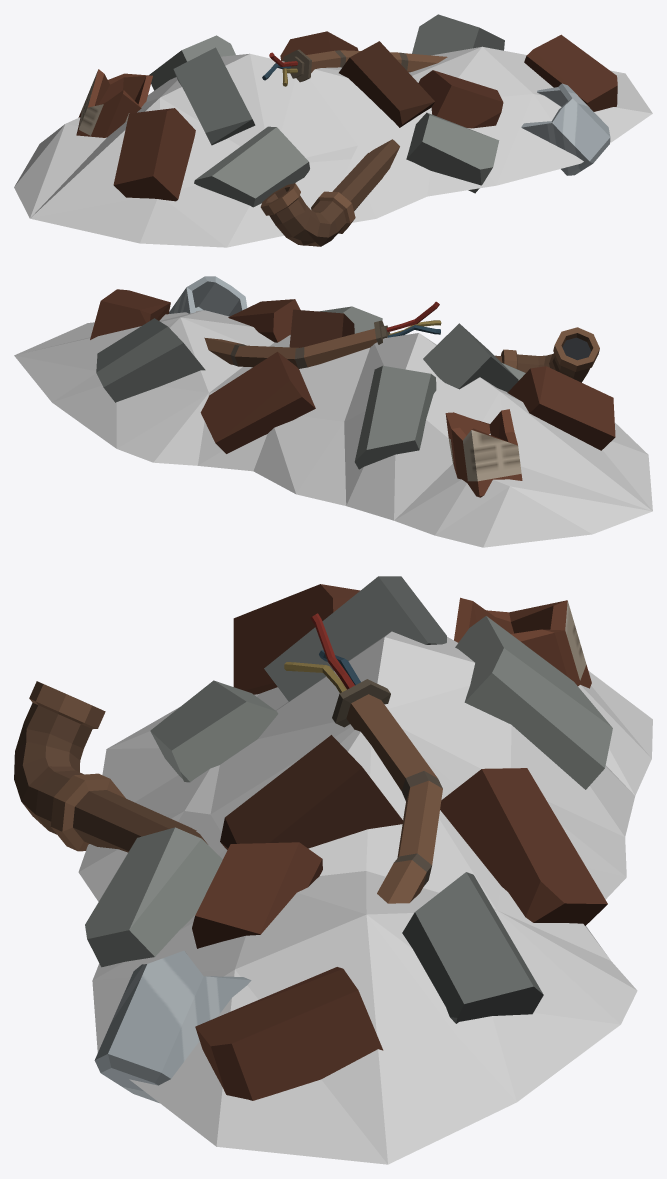
Rendered from SM_Prop_Debris_Pile_02.fbx.
3 renders of one model, top to bottom at view 1: azimuth 30°, elevation 25°; view 2: azimuth 150°, elevation 25°; view 3: azimuth 270°, elevation 25°, orthographic. The views are drawn at different scales.
Visible parts, largest first — view 1: SM_Prop_Debris_Pile_02; view 2: SM_Prop_Debris_Pile_02; view 3: SM_Prop_Debris_Pile_02.
Part boxes in pixels (bbox=[...]): SM_Prop_Debris_Pile_02: bbox=[14, 14, 652, 247]; SM_Prop_Debris_Pile_02: bbox=[14, 276, 652, 547]; SM_Prop_Debris_Pile_02: bbox=[14, 576, 652, 1164].
Bounding box in the file's own units: 190 × 46.27 × 98.9.
